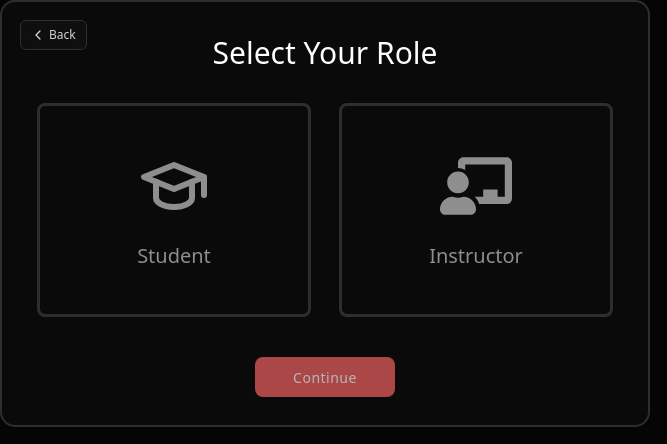
RoleSelectionPage › Instructor Role Selection › enables continue button after selecting instructor
Click the button "Instructor" at (476, 210), box [339,103,613,317]
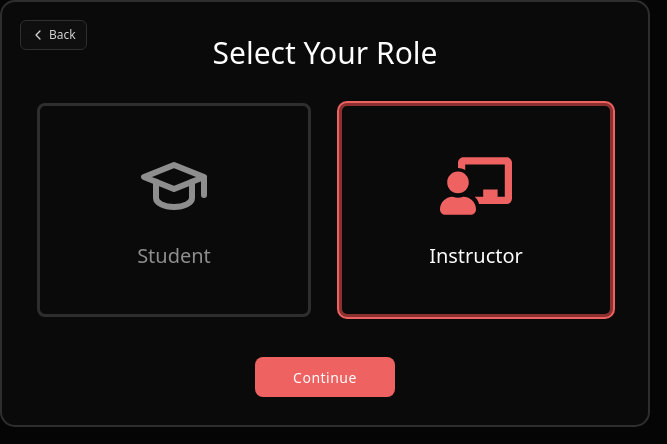
Now the button "Continue" is enabled, box [255,357,395,397]
